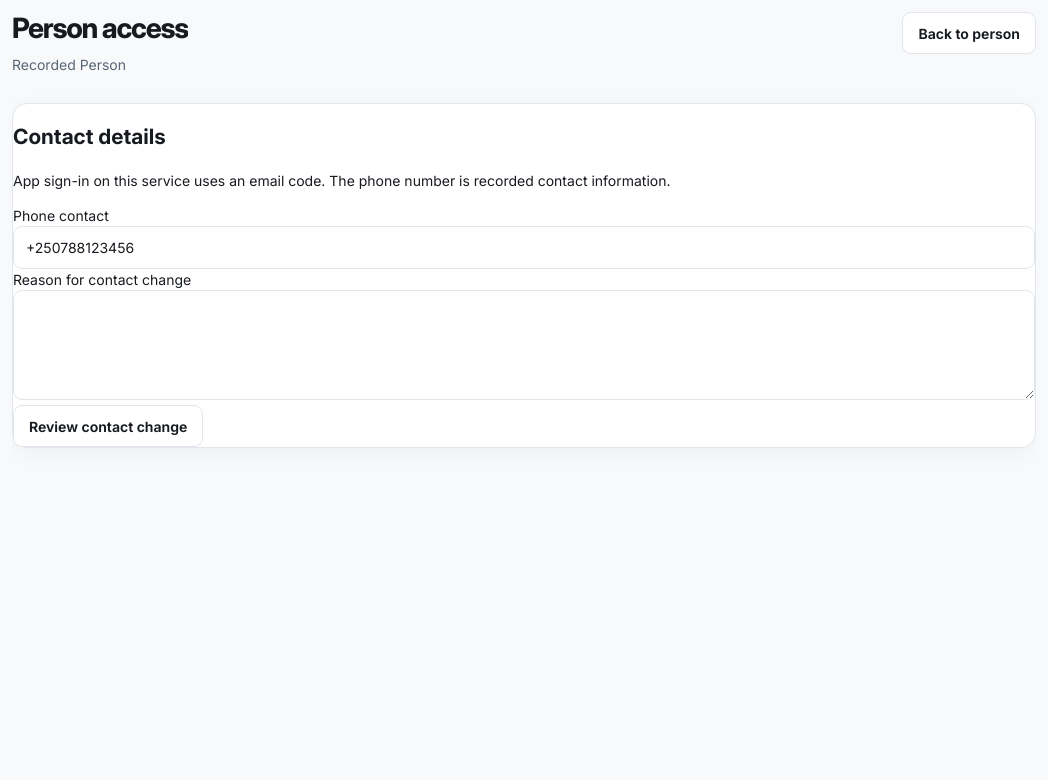
Scenario: legacy person access page › keeps recovery disabled while the original checkpoint is being restored
Replace the text in the field labelled "Phone contact" with "+250788123457" at [524, 248], box [13, 226, 1035, 269]
Type "Review recorded contact" into the text box labelled "Reason for contact change" at [524, 345], box [13, 290, 1035, 400]
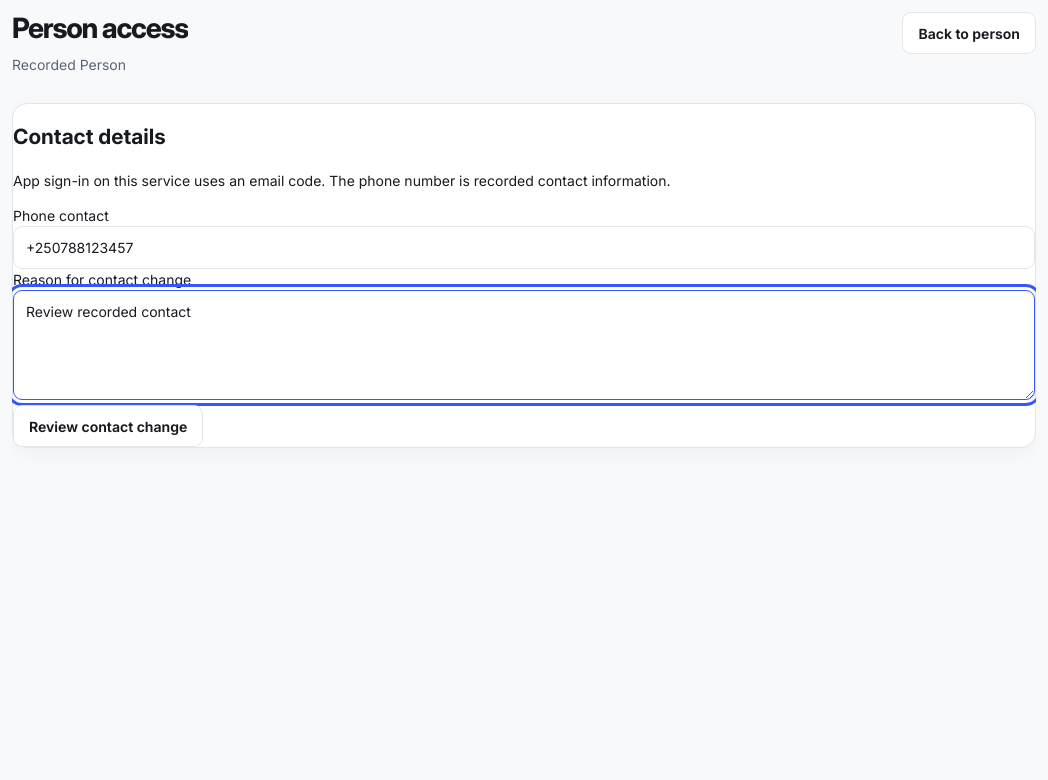
Click the button "Review contact change" at [108, 426], box [13, 405, 203, 447]
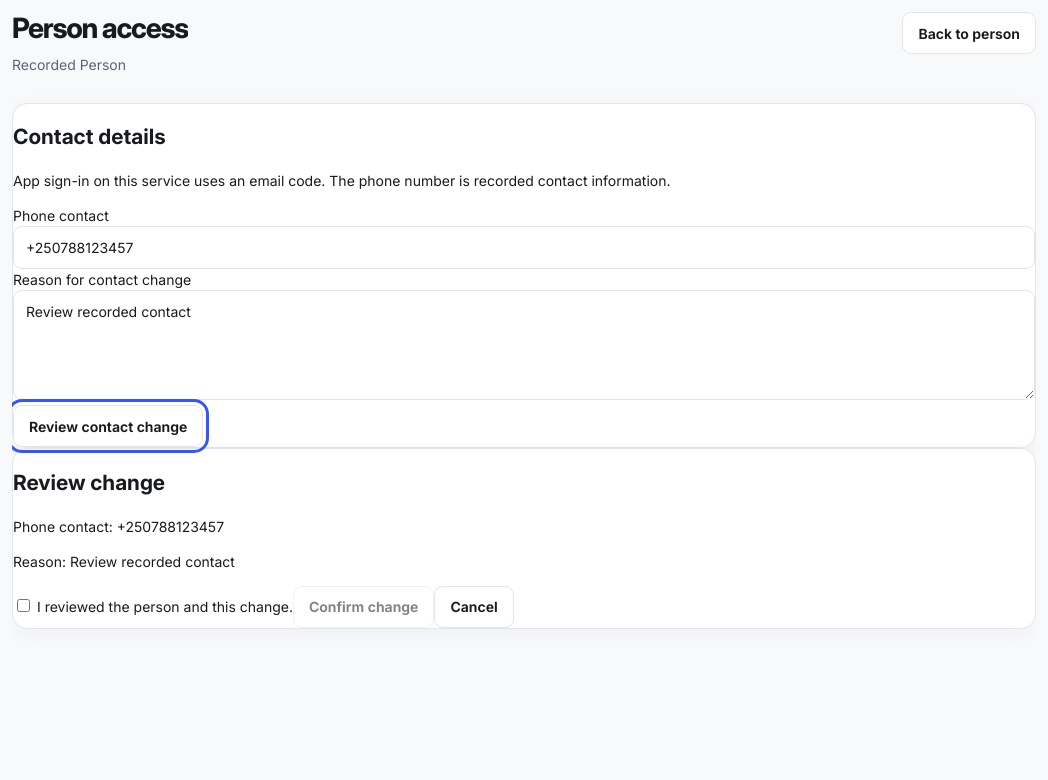
Click the checkbox labelled "I reviewed the person and this change." at [24, 606], box [17, 599, 30, 612]
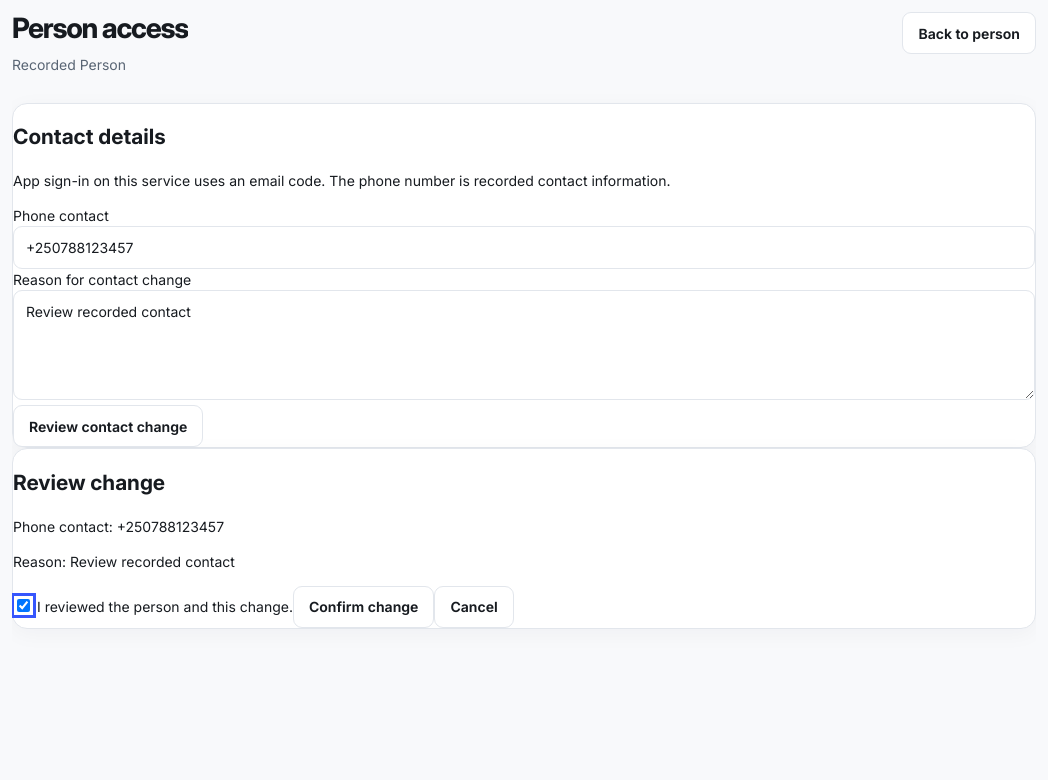
Click the button "Confirm change" at [364, 607], box [293, 586, 434, 628]
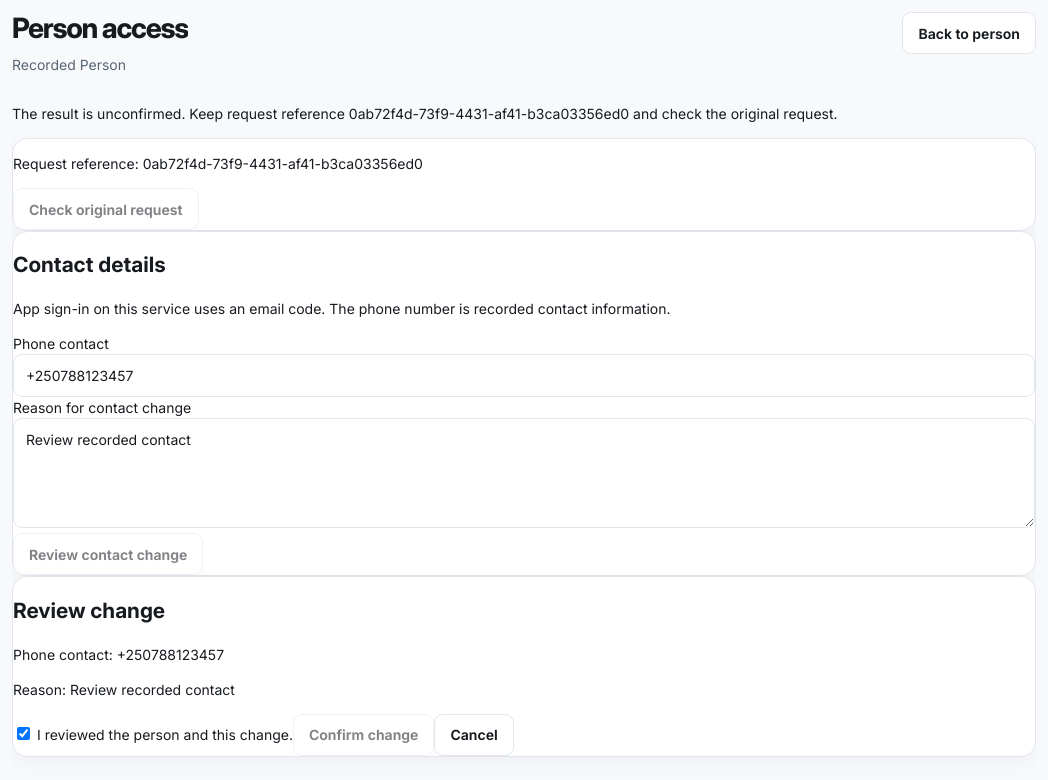
Expected: the button "Check original request" is disabled
Click the button "Check original request" at [106, 209], box [13, 188, 198, 230]
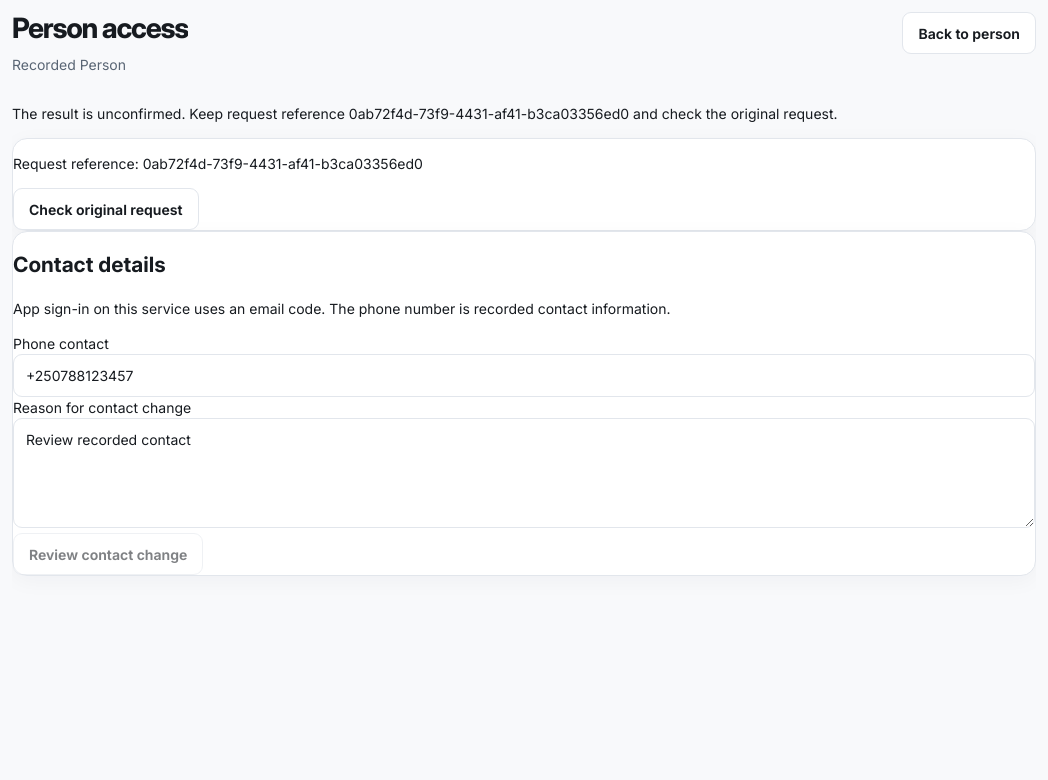
Expected: the button "Check original request" is enabled
Click the button "Check original request" at [106, 209], box [13, 188, 198, 230]
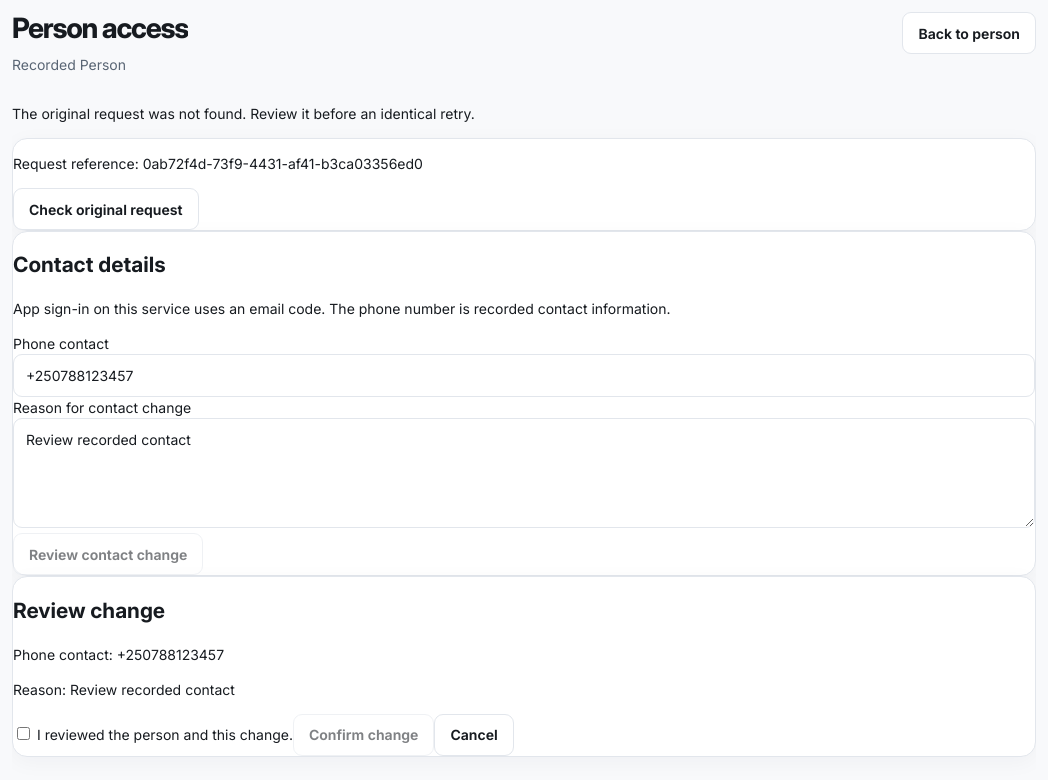
Expected: the text "The original request was not found. Review it before an identical retry." is shown, [12, 105, 475, 122]
